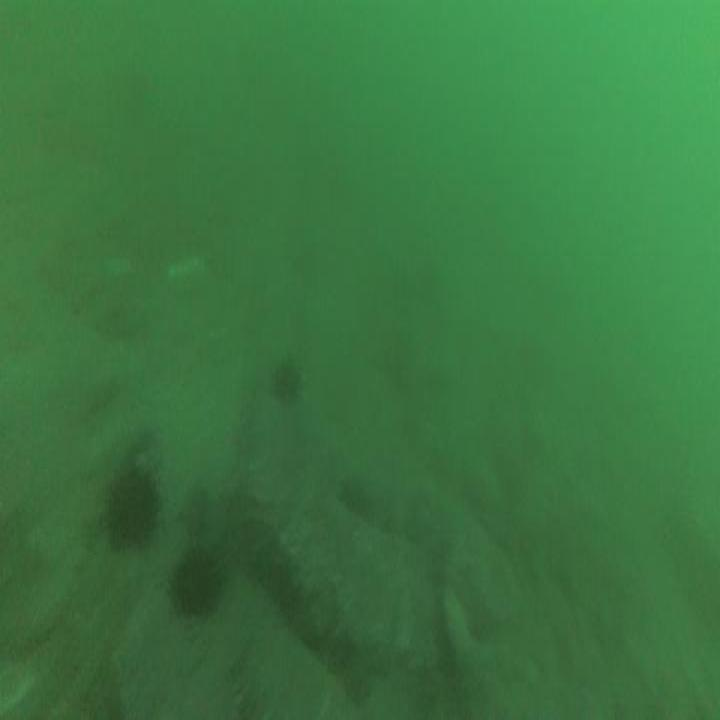echinus: (106, 466, 155, 549), (175, 542, 220, 617), (272, 361, 298, 400)
